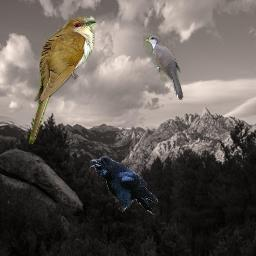Crow: (90, 156, 158, 215)
Cuckoo: (28, 17, 97, 144), (143, 35, 185, 101)
